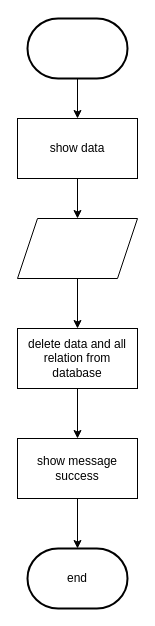
Image size: 155x626. Some labels were removed from this diagram. Each missing label, with the box of its shape:
start: (26, 17, 128, 79)
user choose data: (16, 218, 138, 278)
